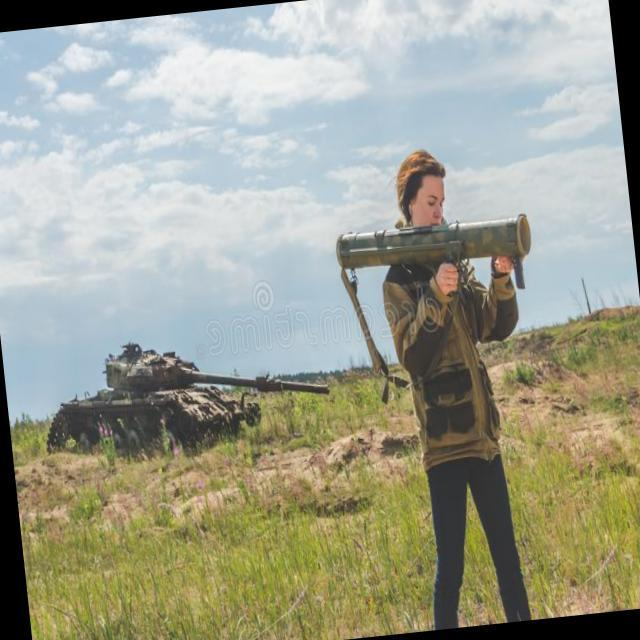rocket: (331, 205, 546, 294)
